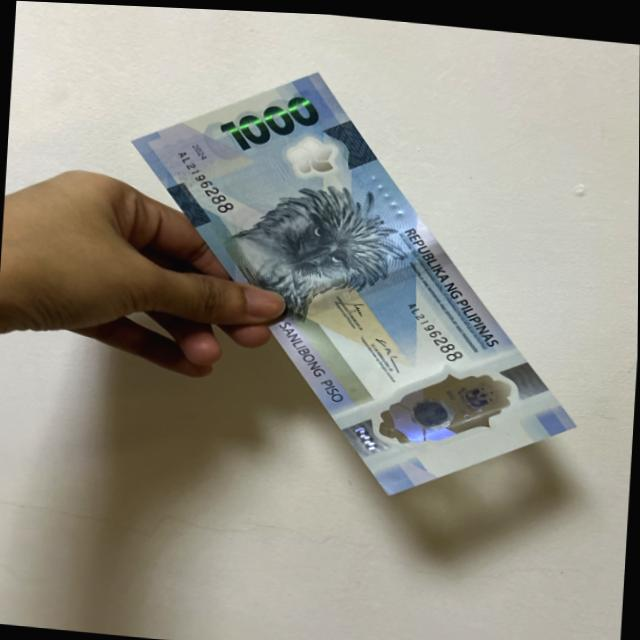clear_window: (379, 356, 519, 458)
eagle: (215, 180, 405, 333)
sampaguita: (283, 133, 345, 177)
serial_number: (391, 291, 488, 363), (163, 141, 243, 214)
